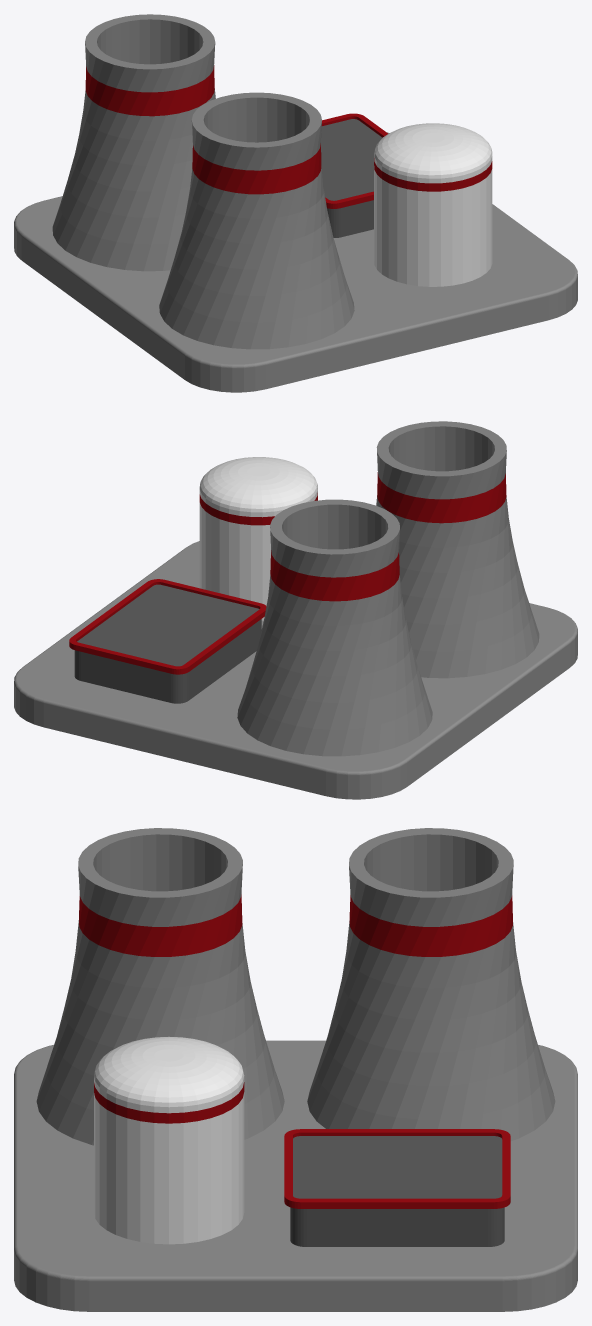
Rendered from structure_nuclear_reactor.fbx.
3 renders of one model, top to bottom at view 1: azimuth 30°, elevation 25°; view 2: azimuth 150°, elevation 25°; view 3: azimuth 270°, elevation 25°, orthographic. The views are drawn at different scales.
Visible parts, largest first — view 1: NuclearReactor; view 2: NuclearReactor; view 3: NuclearReactor.
Part boxes in pixels (x1=…): NuclearReactor: x1=14, y1=14, x2=577, y2=392; NuclearReactor: x1=14, y1=421, x2=577, y2=799; NuclearReactor: x1=14, y1=828, x2=577, y2=1311.
Bounding box in the file's own units: 0.75 × 0.75 × 0.4.
